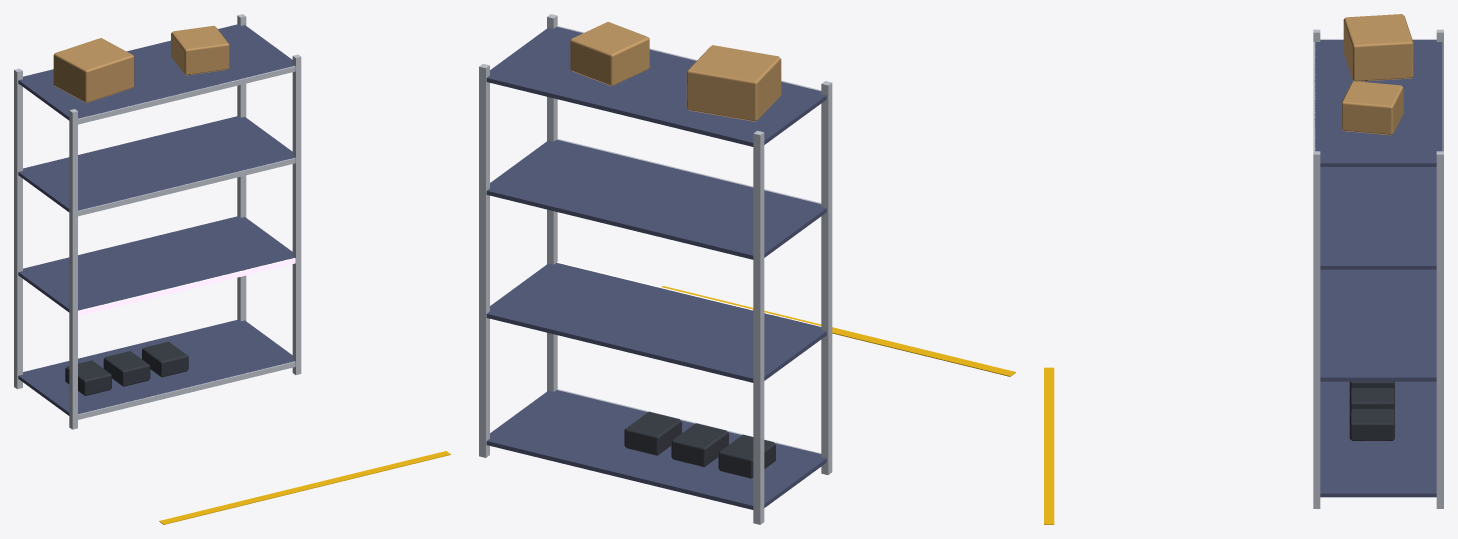
The model's file is station_buffer_basis.glb.
3 views of the same model, side by side, from view 1: azimuth 30°, elevation 25°; view 2: azimuth 150°, elevation 25°; view 3: azimuth 270°, elevation 25° (orthographic). The views are drawn at different scales.
Parts seen in each view (by area): view 1: station_buffer_basis; view 2: station_buffer_basis; view 3: station_buffer_basis.
Boxes of the visible parts, x1,y1,x2,y2 form: station_buffer_basis: [14, 14, 450, 524]; station_buffer_basis: [479, 14, 1015, 524]; station_buffer_basis: [1044, 14, 1443, 524].
Bounding box in the file's own units: 1.8 × 2.05 × 1.94.
